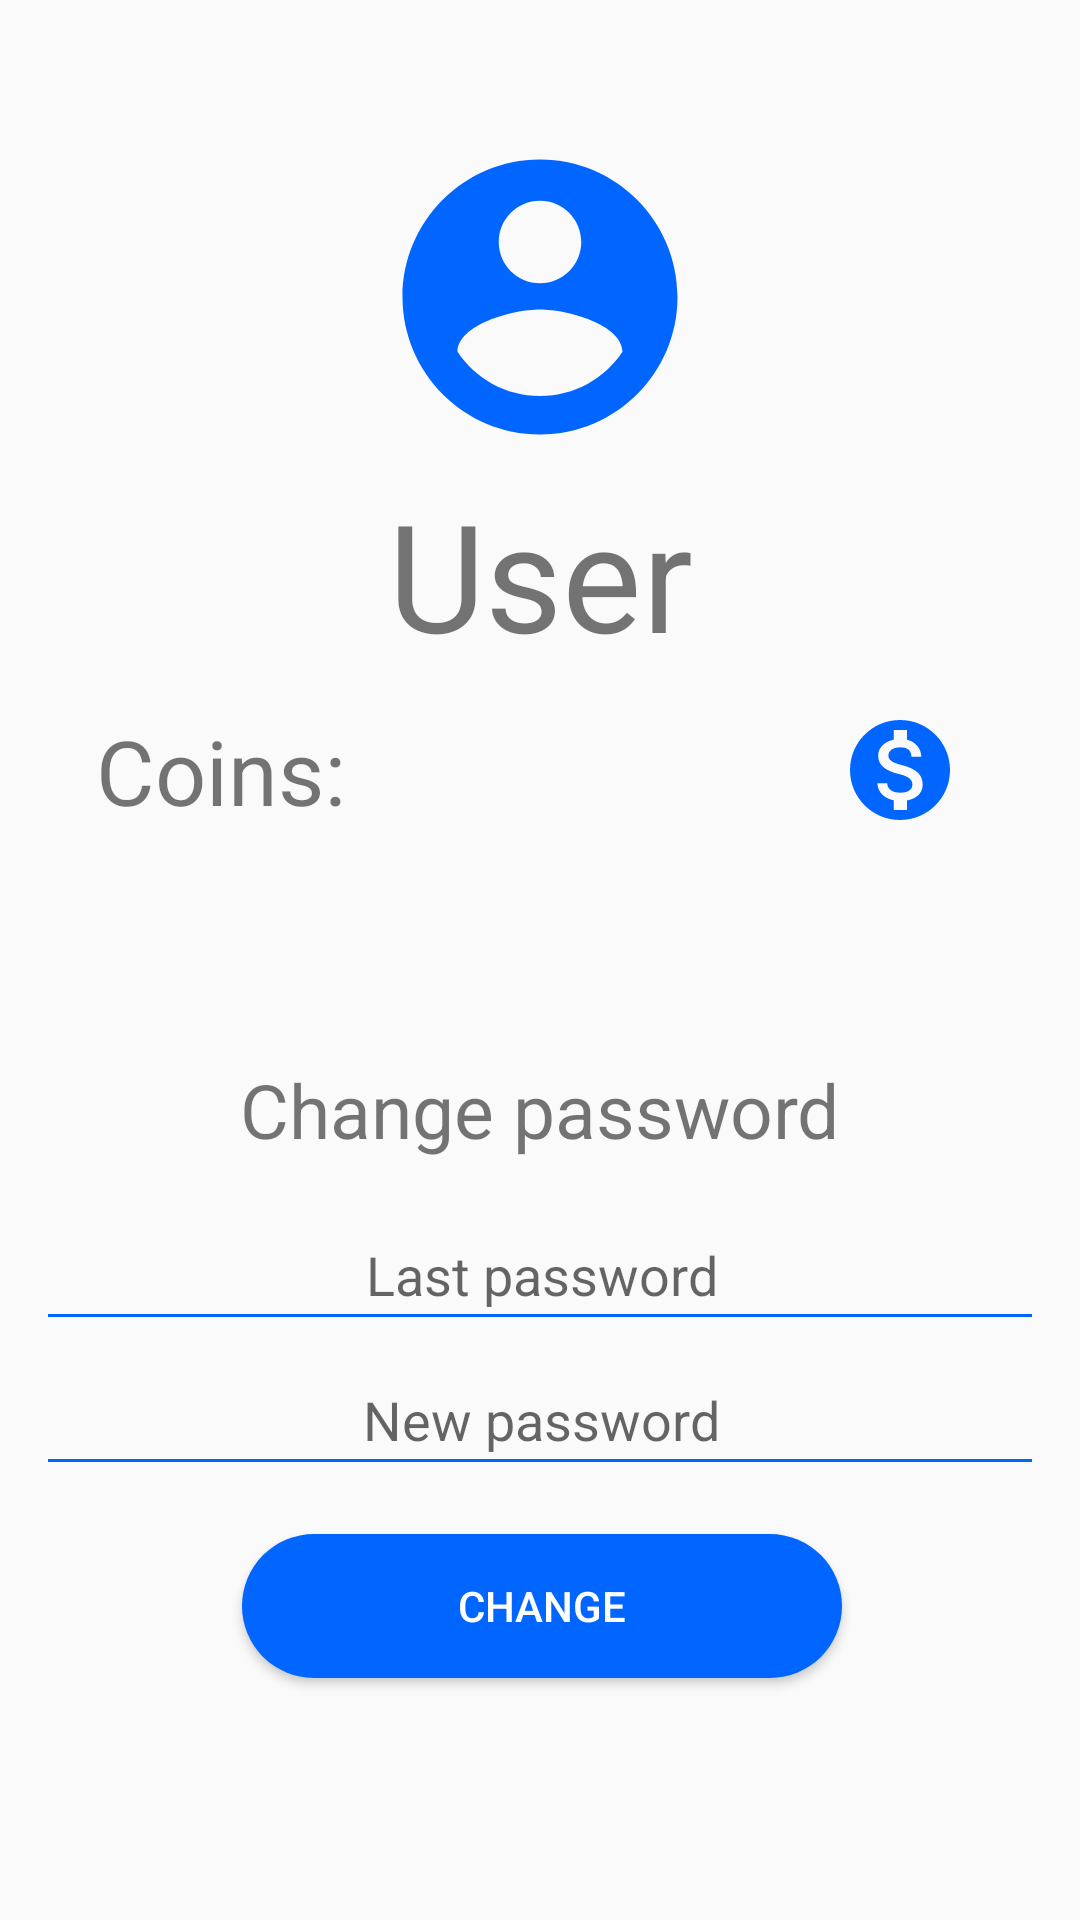

Icon bounding boxes for this 1080x1920 phone screenshot, format (x1,y1,x2,y2):
account circle: (402,159,678,435)
monetization on: (850,720,950,820)
